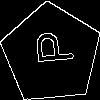P: (26, 28, 74, 66)
